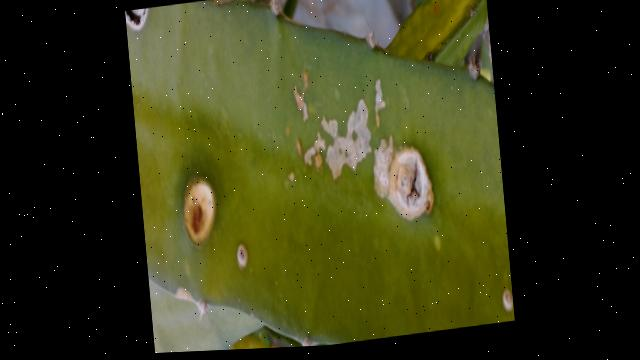stemcanker: (176, 176, 220, 247), (498, 281, 515, 314), (234, 242, 251, 271)
